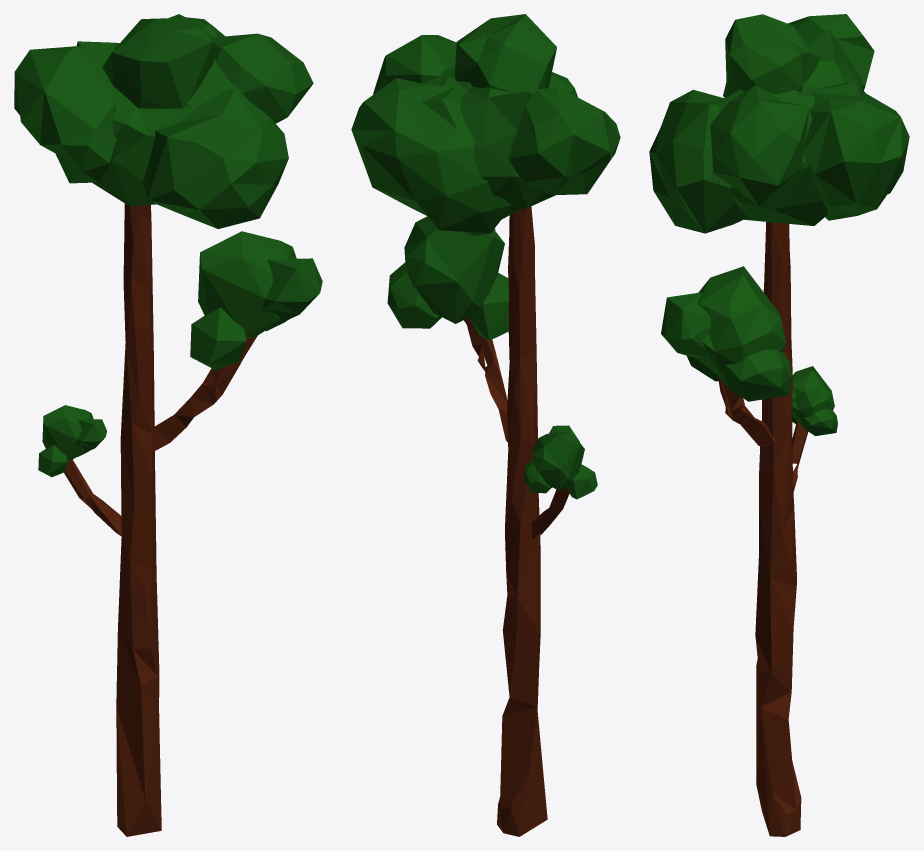
The model's file is tree.glb.
The picture shows the model from 3 angles, left to right: view 1: azimuth 30°, elevation 25°; view 2: azimuth 150°, elevation 25°; view 3: azimuth 270°, elevation 25°; orthographic projection. The views are drawn at different scales.
Visible parts, largest first — view 1: tree; view 2: tree; view 3: tree.
Part boxes in pixels (bbox=[...]): tree: bbox=[14, 14, 322, 836]; tree: bbox=[351, 14, 620, 836]; tree: bbox=[649, 14, 909, 836].
Size of the model in its own units: 1.81 by 5.41 by 1.56.
